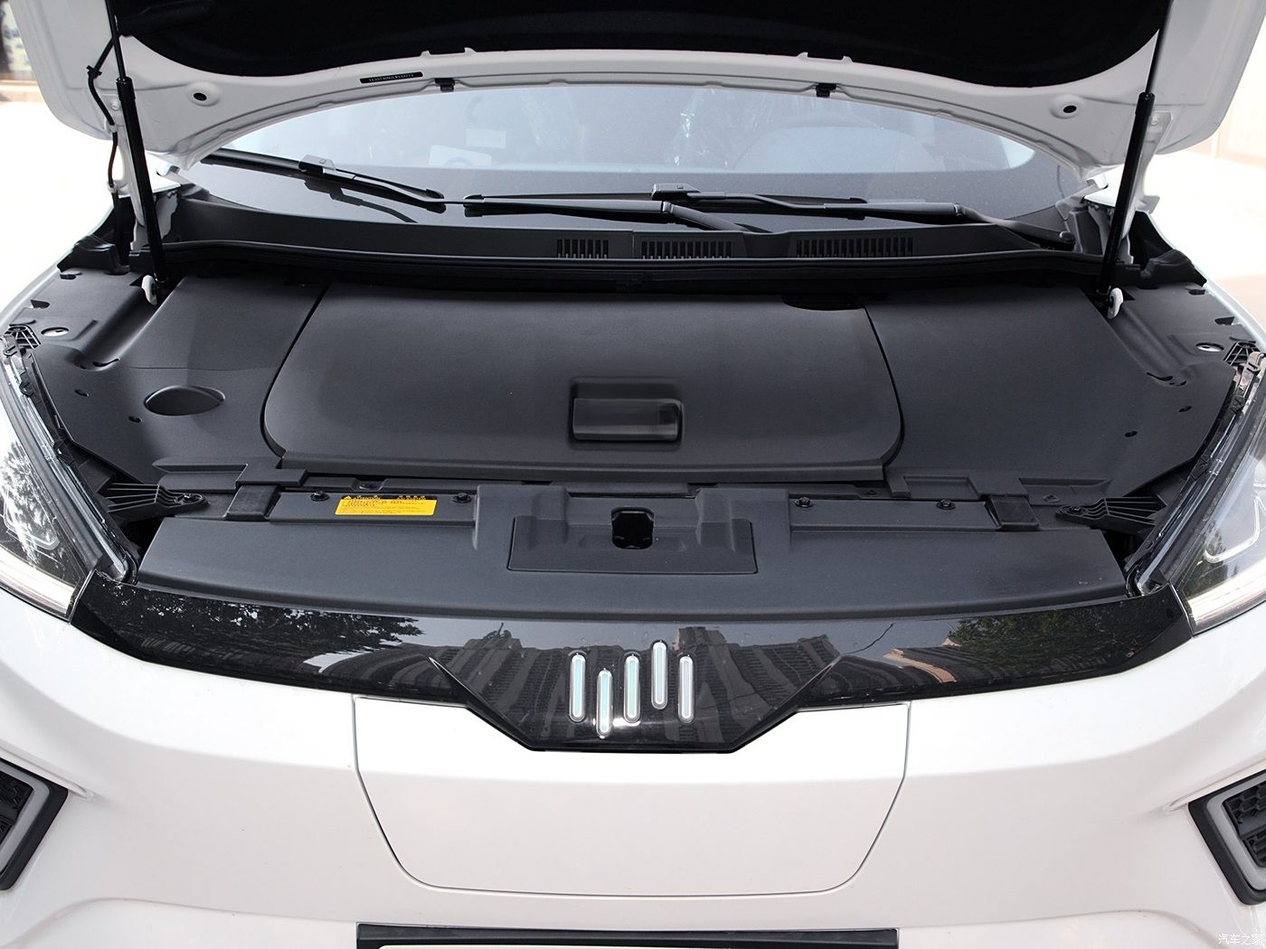WELTMEISTER: (570, 643, 693, 737)
